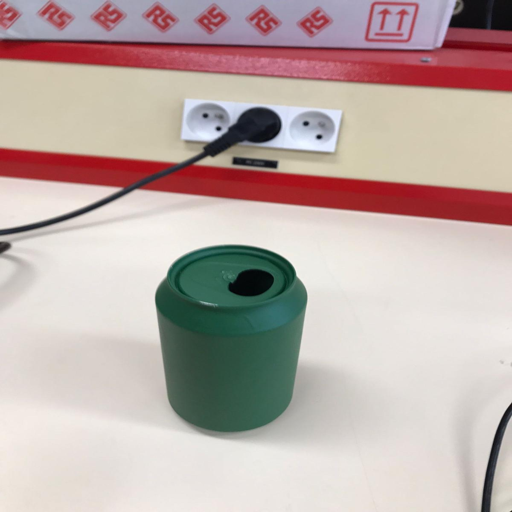Green_Can: (150, 243, 309, 434)
